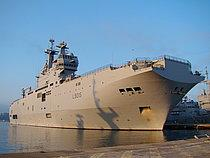MIL_Ship: (6, 28, 192, 132)
